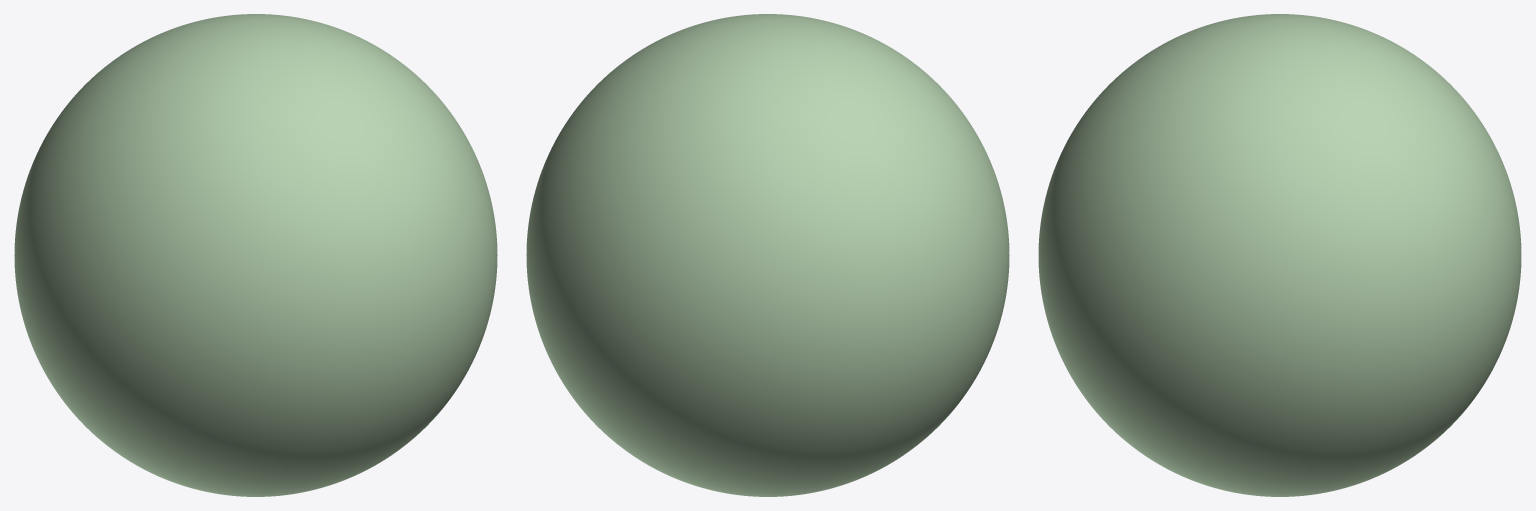
The picture shows the model from 3 angles, left to right: view 1: azimuth 30°, elevation 25°; view 2: azimuth 150°, elevation 25°; view 3: azimuth 270°, elevation 25°; orthographic projection.
Parts seen in each view (by area): view 1: test_sphere; view 2: test_sphere; view 3: test_sphere.
Boxes of the visible parts, <box> form: test_sphere: <box>14,14,497,496</box>; test_sphere: <box>526,14,1009,496</box>; test_sphere: <box>1038,14,1521,496</box>.
Size of the model in its own units: 600 by 600 by 600.
